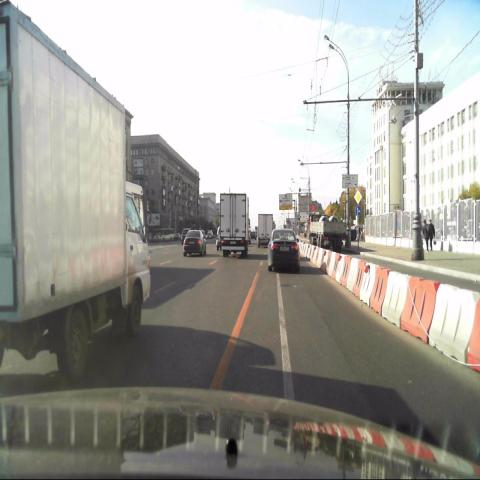2_1: (353, 189, 363, 206)
4_1_4: (354, 206, 362, 218)
